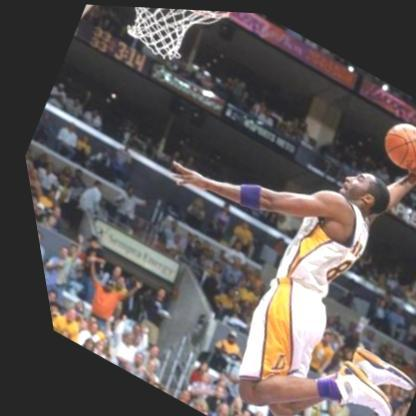basketball: (367, 109, 416, 173)
rim: (113, 5, 247, 80)
